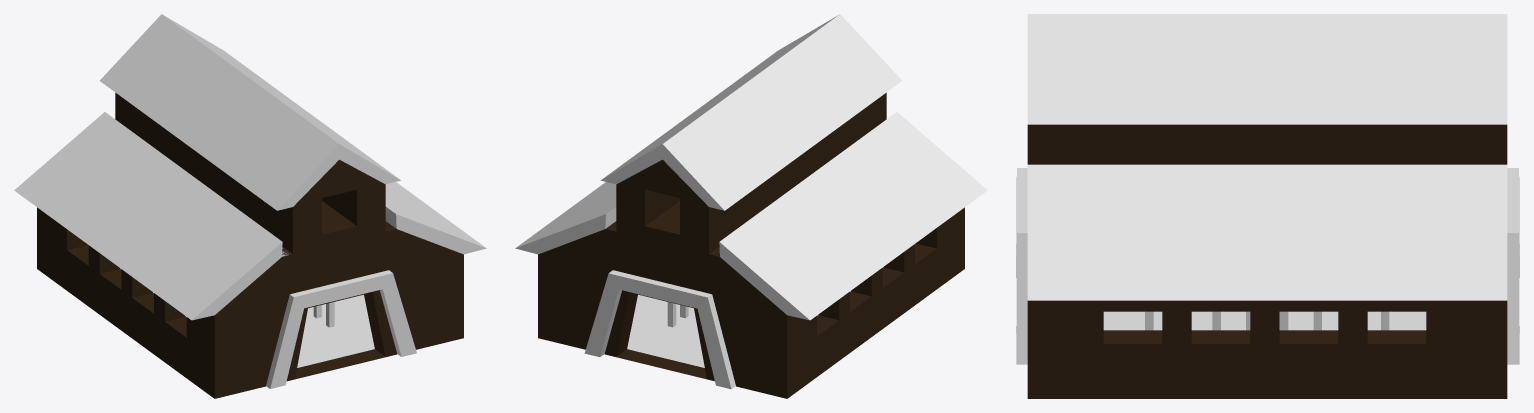
File: barn.fbx
The picture shows the model from 3 angles, left to right: view 1: azimuth 30°, elevation 25°; view 2: azimuth 150°, elevation 25°; view 3: azimuth 270°, elevation 25°; orthographic projection. The views are drawn at different scales.
Parts seen in each view (by area): view 1: roof, barn, Cube, window frames and such, floor; view 2: roof, barn, Cube, window frames and such, floor; view 3: roof, barn, Cube, floor, window frames and such, pillars.
Boxes of the visible parts, left/top/right/bottom form: roof: left=14, top=14, right=486, bottom=320; barn: left=37, top=92, right=463, bottom=398; Cube: left=266, top=270, right=416, bottom=388; window frames and such: left=67, top=189, right=385, bottom=378; floor: left=120, top=268, right=374, bottom=367; roof: left=515, top=14, right=987, bottom=320; barn: left=538, top=92, right=964, bottom=398; Cube: left=584, top=270, right=735, bottom=389; window frames and such: left=616, top=189, right=936, bottom=378; floor: left=627, top=267, right=883, bottom=367; roof: left=1027, top=14, right=1507, bottom=300; barn: left=1027, top=124, right=1507, bottom=398; Cube: left=1016, top=168, right=1519, bottom=364; floor: left=1103, top=311, right=1426, bottom=330; window frames and such: left=1103, top=330, right=1426, bottom=343; pillars: left=1145, top=311, right=1389, bottom=330.
Size of the model in its own units: 8.31 by 6.04 by 9.1.
